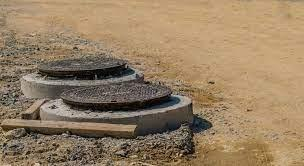closed manhole-not overflowing-: (43, 84, 195, 134), (15, 52, 151, 81)
